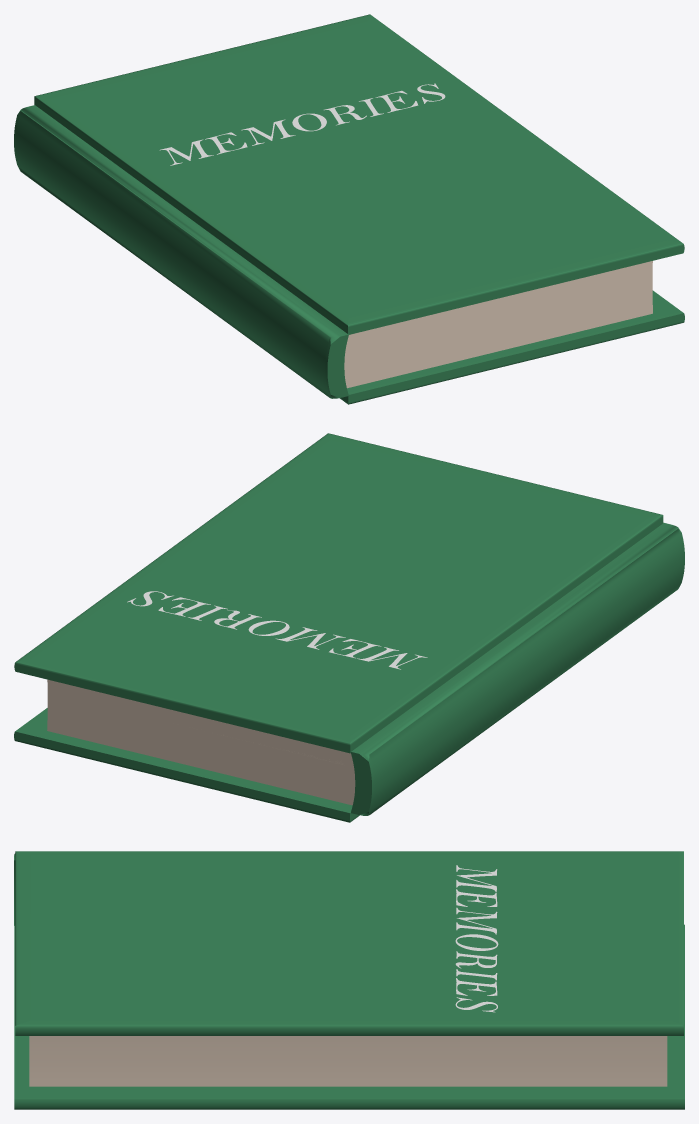
Rendered from アルバム.fbx.
3 views of the same model, one above another, from view 1: azimuth 30°, elevation 25°; view 2: azimuth 150°, elevation 25°; view 3: azimuth 270°, elevation 25° (orthographic). The views are drawn at different scales.
Visible parts, largest first — view 1: 立方体.001, 立方体, 立方体.003, 立方体.002, テキスト; view 2: 立方体.001, 立方体, 立方体.003, 立方体.002, テキスト; view 3: 立方体.001, 立方体.003, 立方体.002, テキスト.
Part boxes in pixels (<box>): 立方体.001: <box>34,14,684,334</box>; 立方体: <box>14,105,348,398</box>; 立方体.003: <box>344,261,652,388</box>; 立方体.002: <box>340,290,684,404</box>; テキスト: <box>159,83,445,165</box>; 立方体.001: <box>14,433,663,753</box>; 立方体: <box>351,522,684,815</box>; 立方体.003: <box>47,679,355,805</box>; 立方体.002: <box>14,708,359,822</box>; テキスト: <box>127,591,427,669</box>; 立方体.001: <box>15,851,683,1035</box>; 立方体.003: <box>29,1036,667,1086</box>; 立方体.002: <box>14,924,684,1109</box>; テキスト: <box>455,865,498,1012</box>.
Bounding box in the file's own units: 246 × 52.65 × 375.
